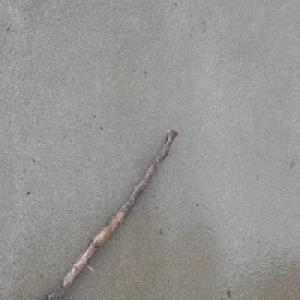Wood: (35, 126, 179, 300)
